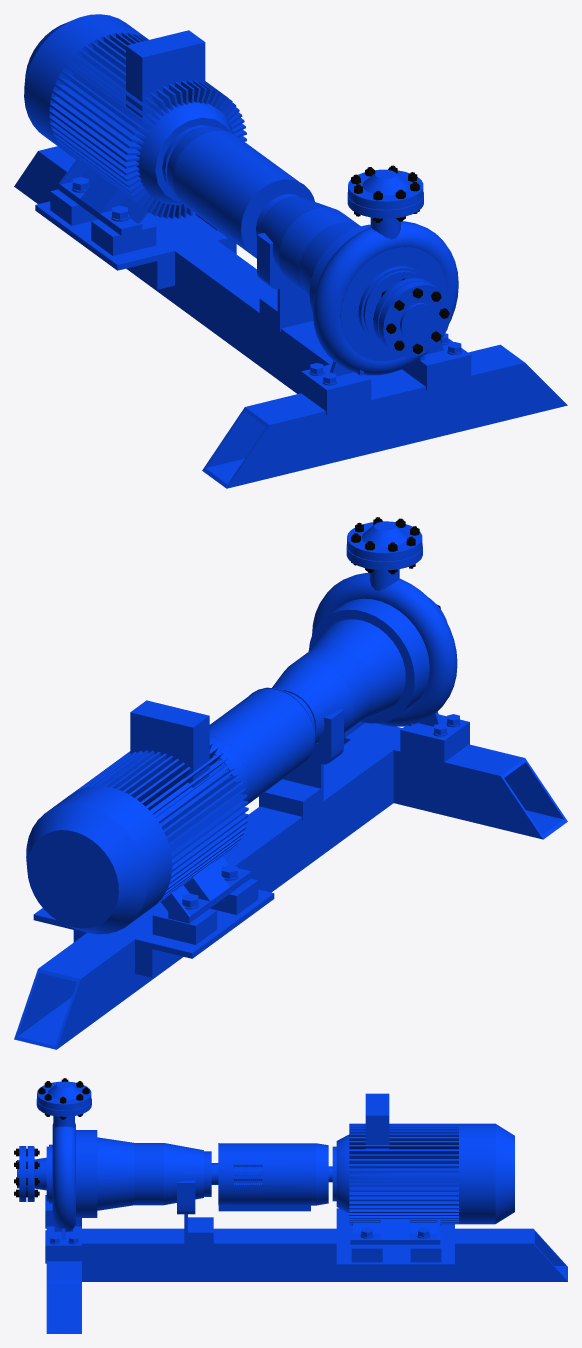
Rendered from Pump.fbx.
The picture shows the model from 3 angles, top to bottom: view 1: azimuth 30°, elevation 25°; view 2: azimuth 150°, elevation 25°; view 3: azimuth 270°, elevation 25°; orthographic projection. The views are drawn at different scales.
Parts seen in each view (by area): view 1: Pump; view 2: Pump; view 3: Pump.
Boxes of the visible parts, x1=… form: Pump: x1=14, y1=14, x2=567, y2=488; Pump: x1=14, y1=517, x2=567, y2=1049; Pump: x1=14, y1=1078, x2=567, y2=1333.
Bounding box in the file's own units: 77 × 56.8 × 151.
